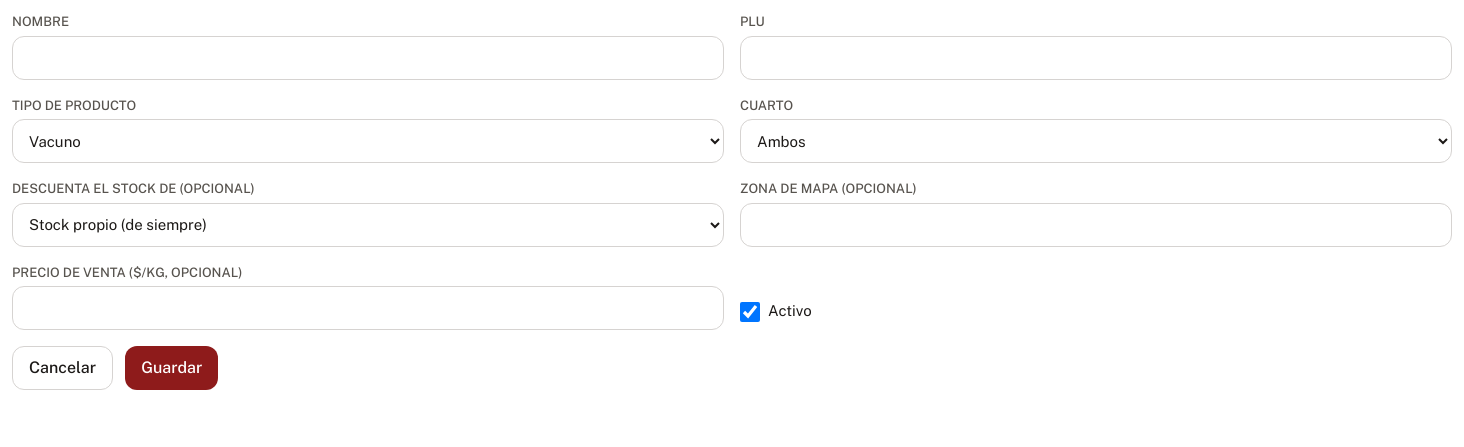
FormularioCorte › alta: no deja guardar sin nombre ni PLU
Click the button "Guardar". click: (172, 368)
box: [125,346,218,390]
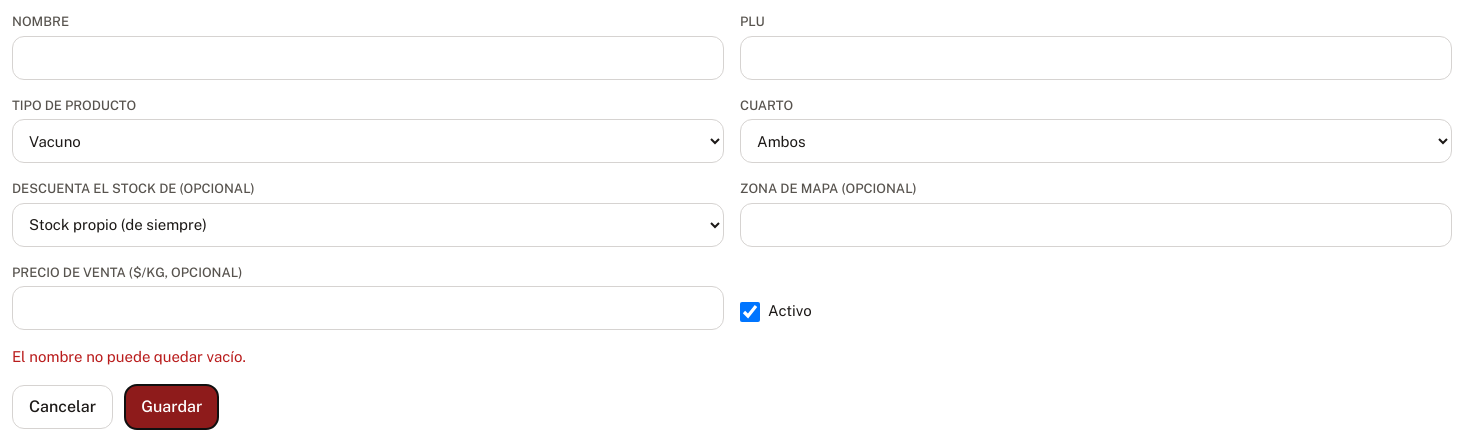
expect the text "El nombre no puede quedar vacío." is shown: met, box [12,348,246,365]
